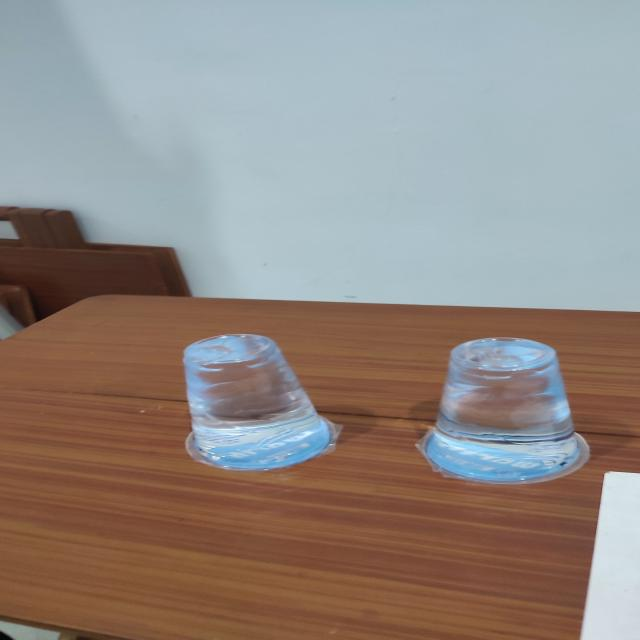air gelas: (416, 324, 599, 492), (174, 325, 354, 472)
